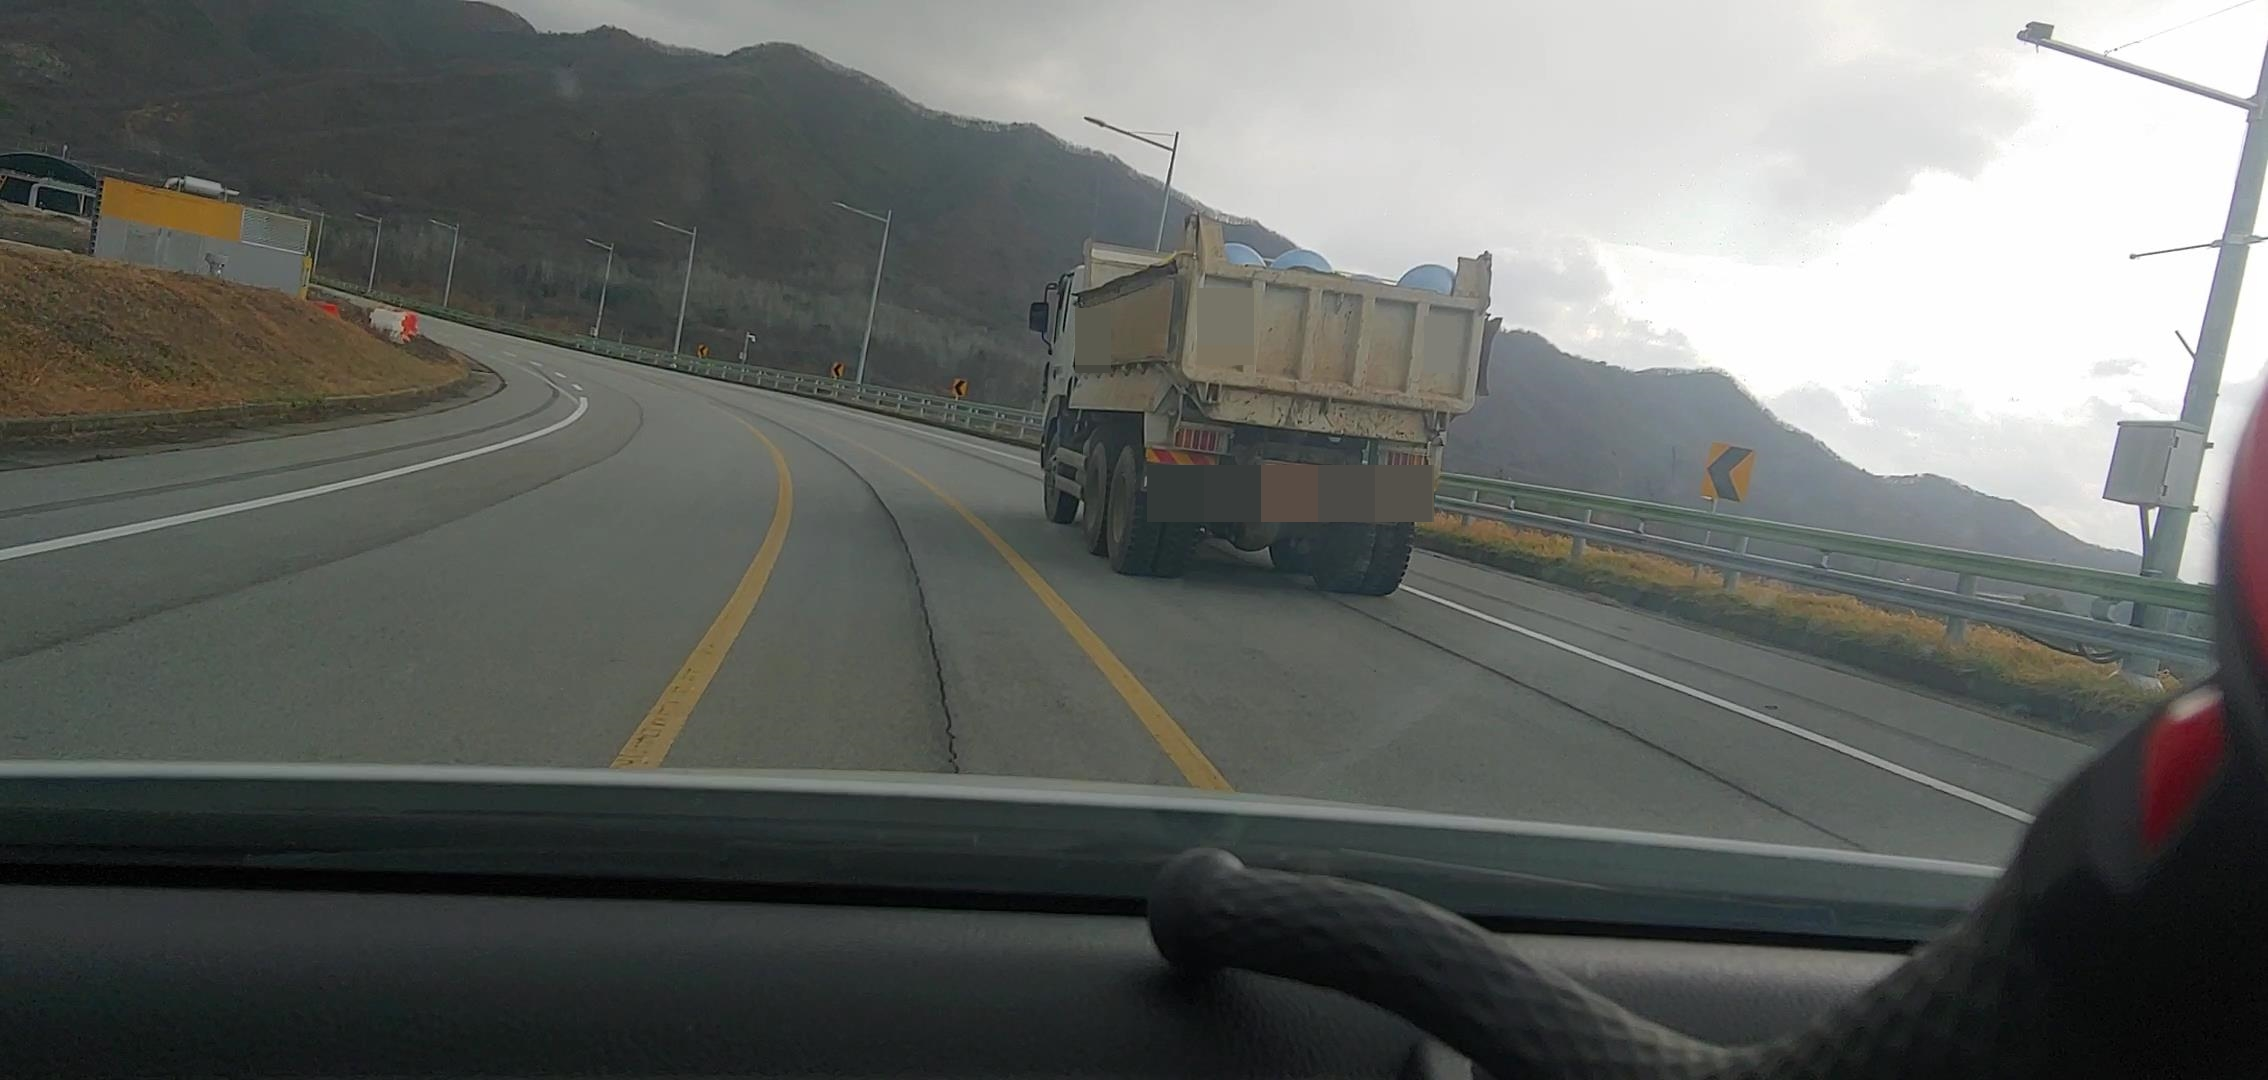불법차량: (1028, 213, 1504, 596)
